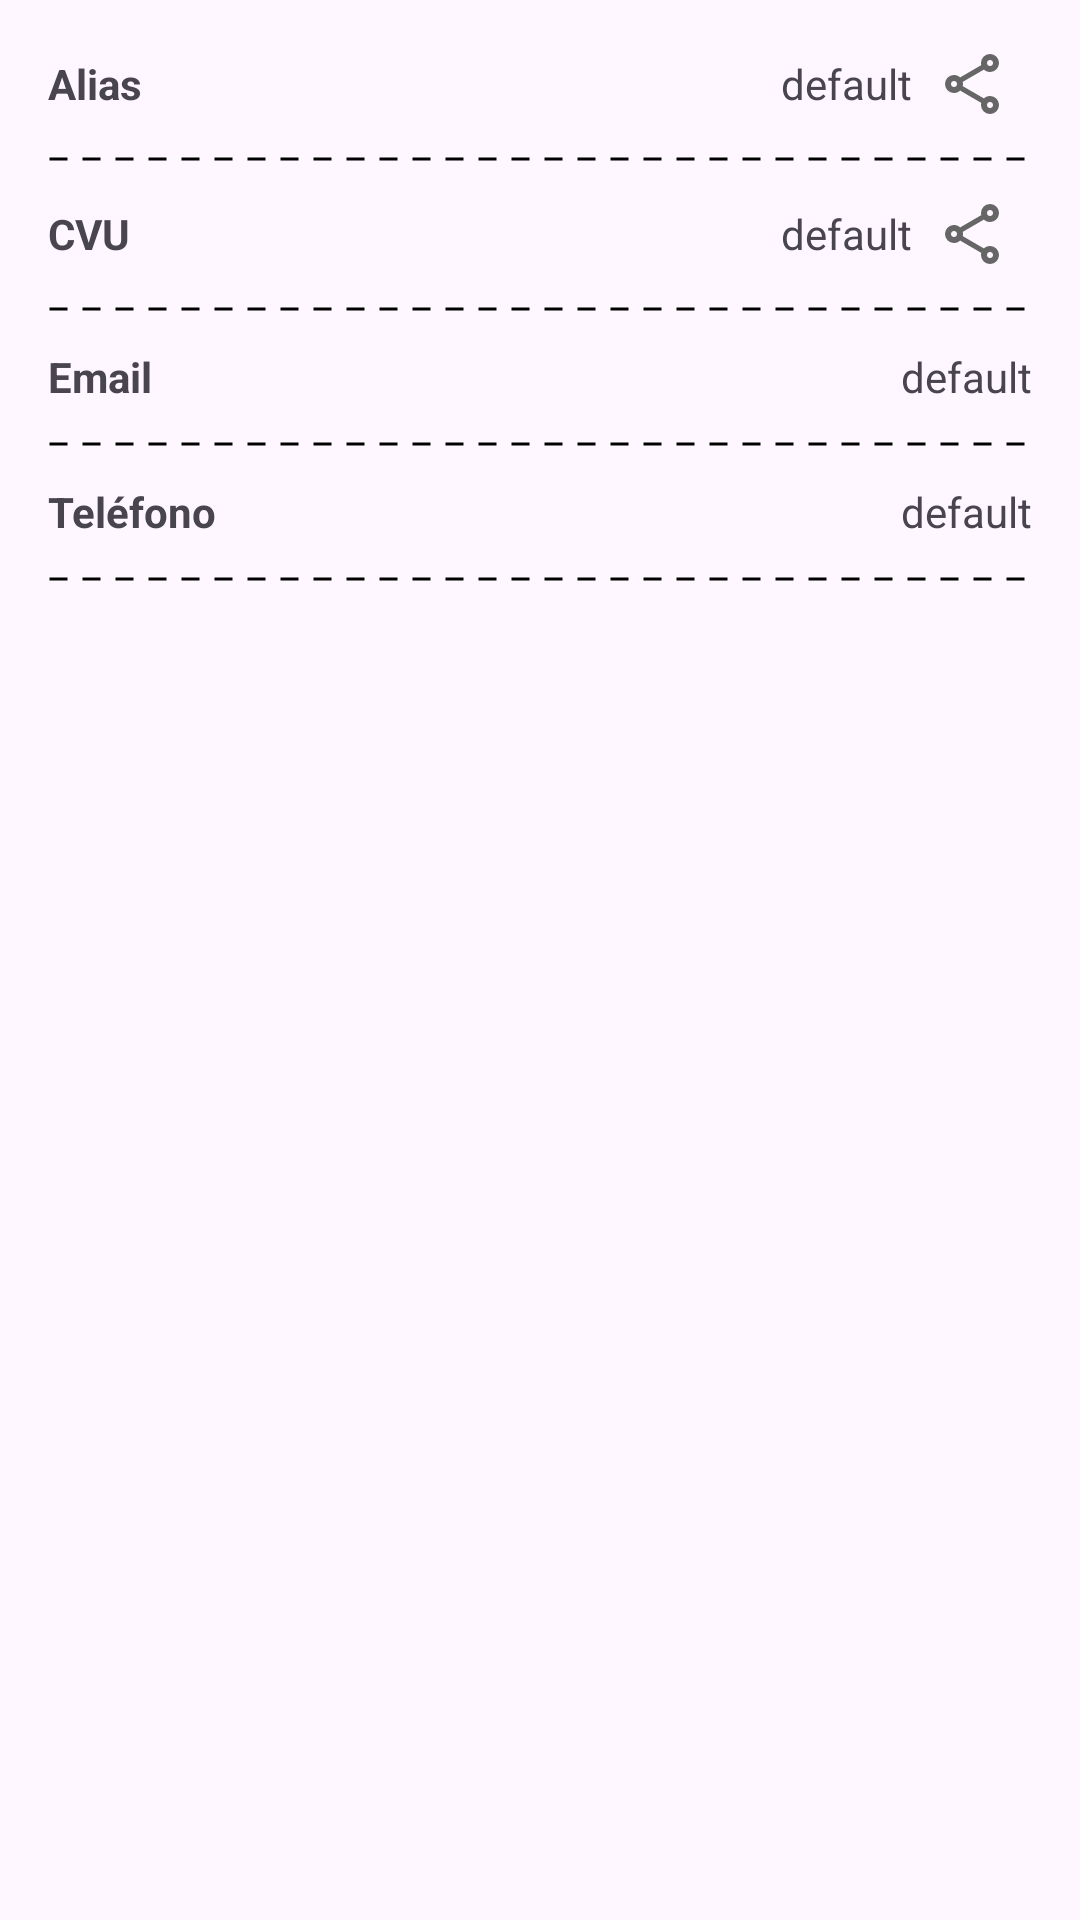

Locate icon controls on the screen. Image size 1080w x 1920h, boxes as BBox(x1, y1, x2, y2).
share: BBox(945, 54, 999, 114), BBox(945, 204, 999, 264)
